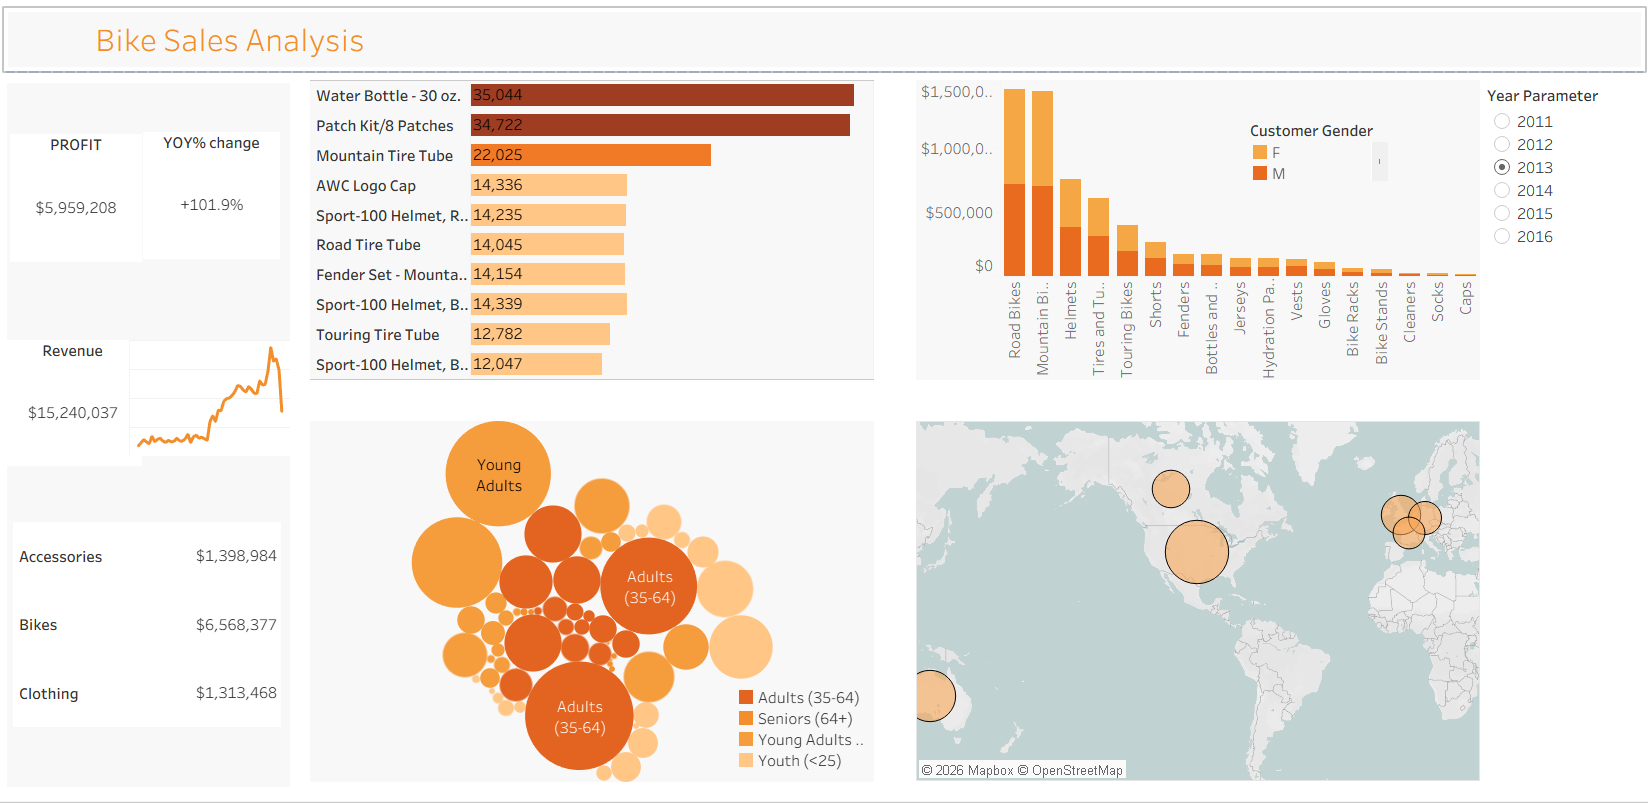

The page's visual inventory and layout, read from the dashboard file:
{"tool":"tableau","page":{"name":"Dashboard 1","canvas":[1000,1000],"units":"permille","ordinal":0},"visuals":[{"type":"title","box":[4.8,10,990.3,78.7]},{"type":"blank","box":[4.8,88.6,990.3,901.4]},{"type":"worksheet","title":"TOP 10 PRODUCT","mark":"Bar","rows":["Product"],"box":[189.5,99.9,340.4,374.5]},{"type":"worksheet","title":"Sub Category bar chart","mark":"Automatic","rows":["Profit"],"cols":["Sub_Category"],"box":[555.2,99.9,340.4,374.5]},{"type":"parameter","param":"[Parameters].[Parameter 1]","box":[899.8,106.1,93.7,207.2]},{"type":"legend","title":"Sub Category bar chart","param":"[federated.0jiu9bz0rvol6i15pe5ld0mh1xi9].[none:Customer_Gender:nk]","box":[756.8,149.8,84.3,76.2]},{"type":"worksheet","title":"YoY% change","mark":"Automatic","cols":["Calculation_0984922834141195"],"box":[88.7,164.8,82.7,158.6]},{"type":"worksheet","title":"PROFIT CARD","mark":"Automatic","cols":["Calculation_0984922793119747"],"box":[8.4,167.3,79.7,159.8]},{"type":"worksheet","title":"Revenue","mark":"Automatic","cols":["Calculation_0984922837151756"],"box":[4.2,424.5,83.9,157.3]},{"type":"worksheet","title":"line chart","mark":"Automatic","rows":["Revenue"],"cols":["Date"],"box":[80.3,424.5,97.2,144.8]},{"type":"worksheet","title":"AGE GROUP BUBBLE CHART ","mark":"Circle","box":[189.2,525.6,340.4,450.7]},{"type":"worksheet","title":"MAP","mark":"Automatic","box":[555.2,525.6,340.4,449.4]},{"type":"worksheet","title":"Cost Card","mark":"Automatic","rows":["Product_Category"],"box":[10.3,651.7,161.7,255.9]},{"type":"legend","title":"AGE GROUP BUBBLE CHART ","param":"[federated.0jiu9bz0rvol6i15pe5ld0mh1xi9].[none:Age_Group:nk]","box":[446.4,857.7,81.4,138.6]}]}

Visuals, with their boxes on the dashboard's canvas, which has no fixed pixel size, in thousandths of its width and height (x1, y1, x2, y2). These are canvas units, not pixel positions in the 1648x803 screenshot, which may show the page scaled, cropped or inside an application window:
title: 5 10 995 89
blank: 5 89 995 990
"TOP 10 PRODUCT" worksheet (Bar marks): 190 100 530 474
"Sub Category bar chart" worksheet: 555 100 896 474
parameter: 900 106 994 313
"Sub Category bar chart" legend: 757 150 841 226
"YoY% change" worksheet: 89 165 171 323
"PROFIT CARD" worksheet: 8 167 88 327
"Revenue" worksheet: 4 424 88 582
"line chart" worksheet: 80 424 178 569
"AGE GROUP BUBBLE CHART " worksheet (Circle marks): 189 526 530 976
"MAP" worksheet: 555 526 896 975
"Cost Card" worksheet: 10 652 172 908
"AGE GROUP BUBBLE CHART " legend: 446 858 528 996
